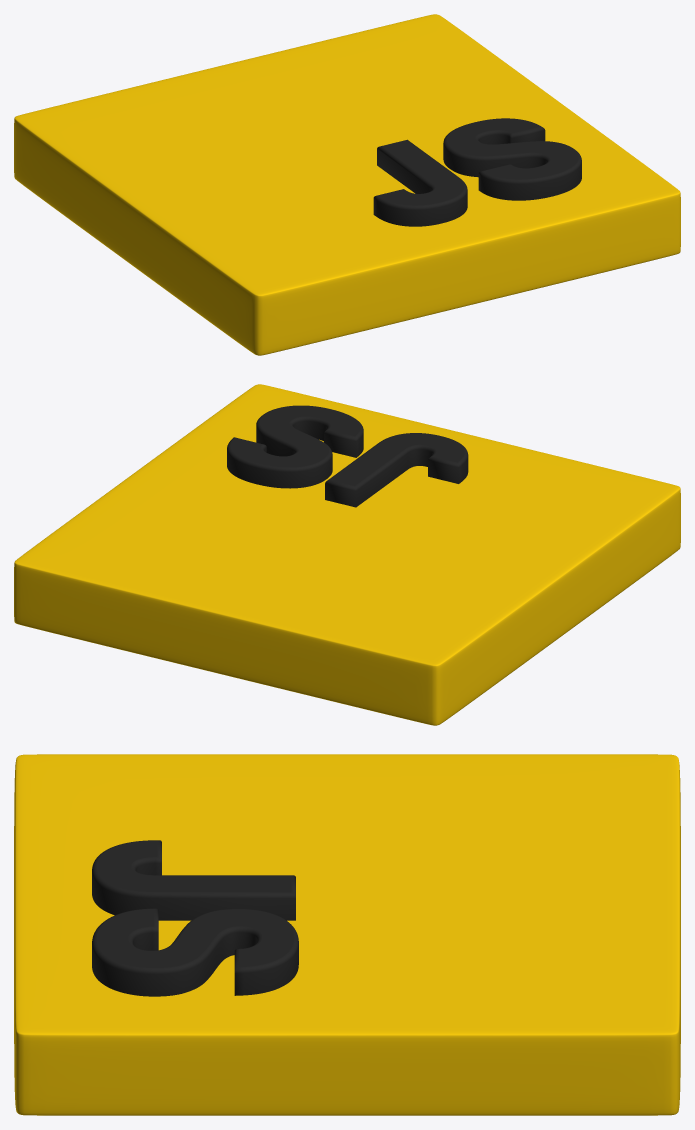
3 views of the same model, one above another, from view 1: azimuth 30°, elevation 25°; view 2: azimuth 150°, elevation 25°; view 3: azimuth 270°, elevation 25° (orthographic). The views are drawn at different scales.
Parts seen in each view (by area): view 1: backGround, Text; view 2: backGround, Text; view 3: backGround, Text.
Boxes of the visible parts, x1,y1,x2,y2 form: backGround: (14,14,680,355); Text: (373,118,581,226); backGround: (14,384,680,725); Text: (227,405,468,507); backGround: (14,754,680,1115); Text: (92,840,298,996).
Bounding box in the file's own units: 0.1412 × 0.0298 × 0.1412.
